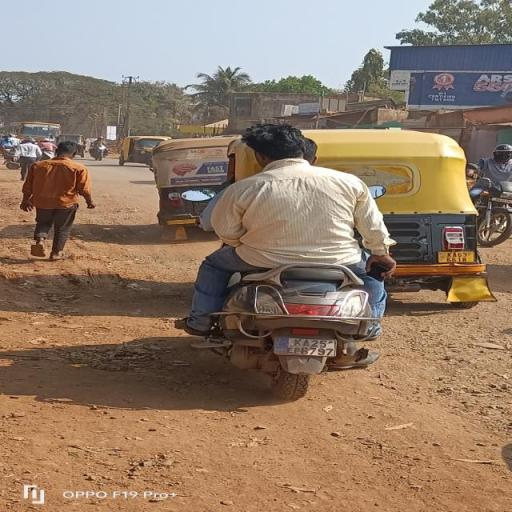bike: (178, 120, 398, 404)
numberplate: (278, 336, 340, 360)
withouthelmet: (253, 126, 304, 164), (308, 138, 316, 165)
